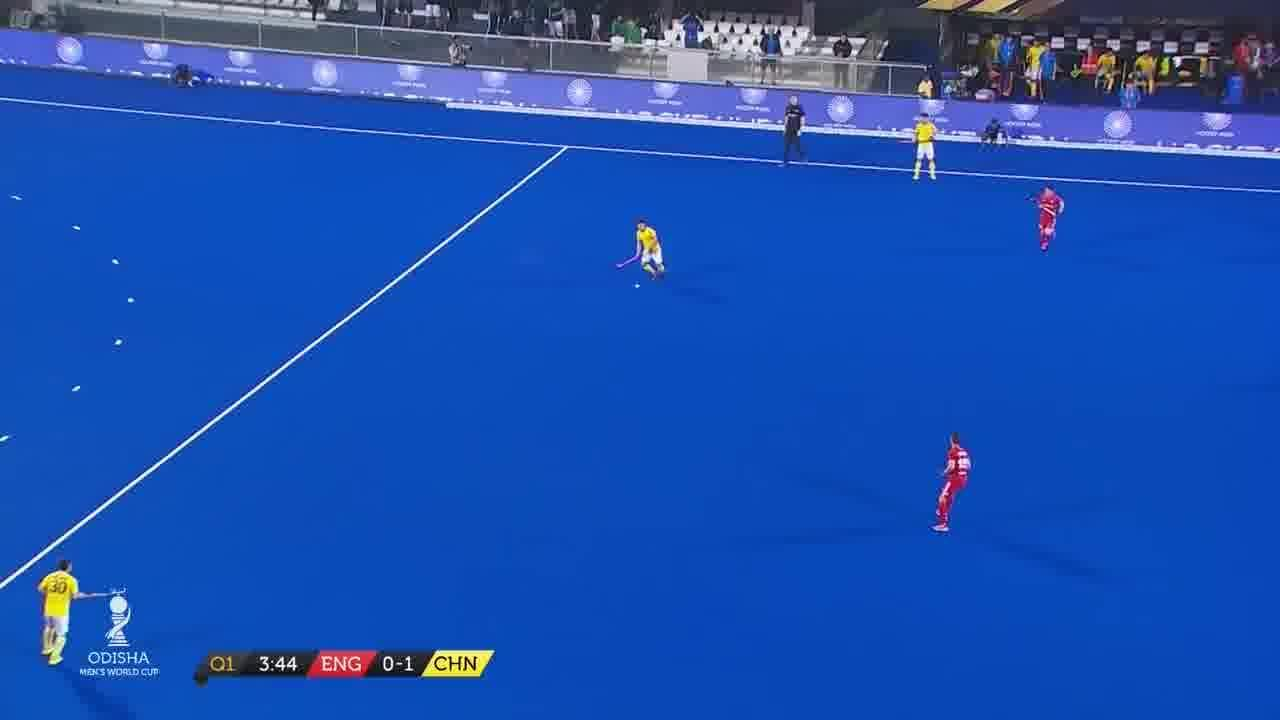ball: (632, 283, 642, 293)
